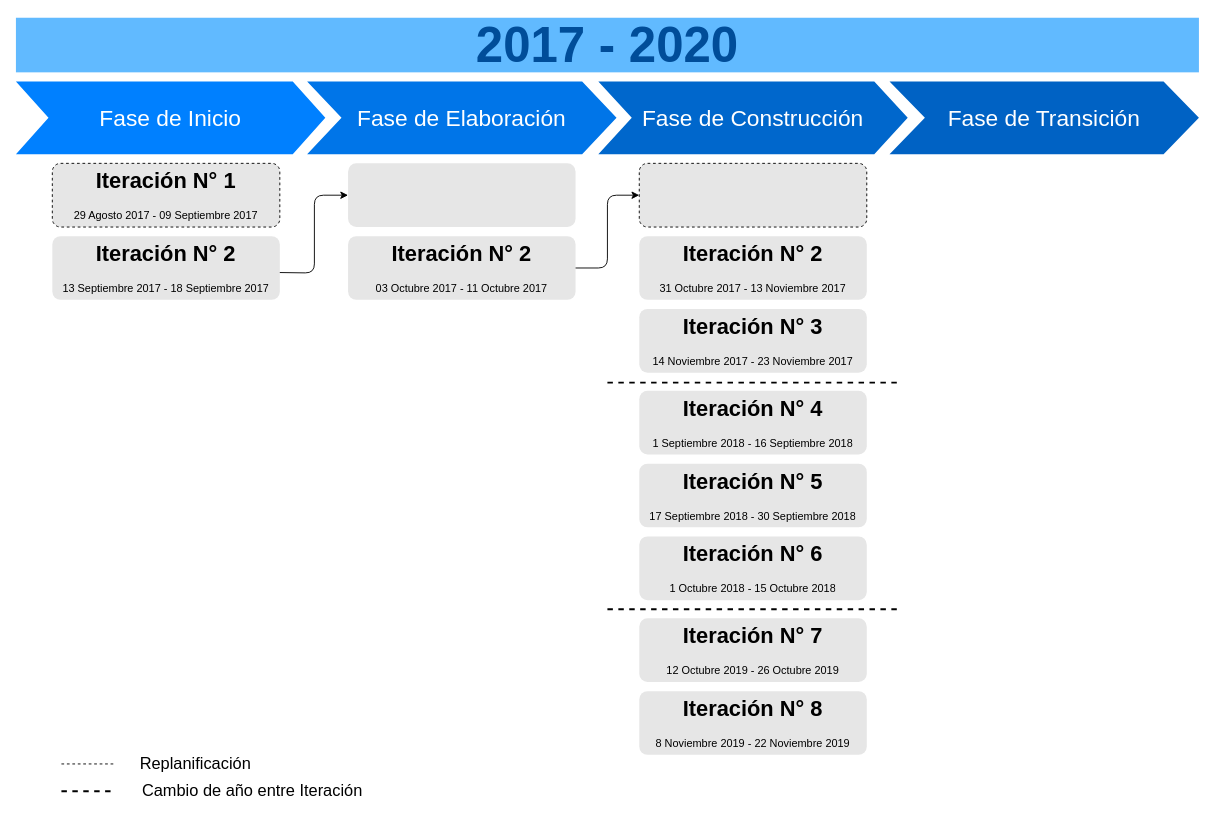
The diagram is 1214 pixels wide and 817 high, and some of its shapes have lost their labels. The centre of each missing label's shape, as x and y in pixels:
Iteración N° 1 13 Octubre 2017 - 26 Octubre 2017: pixel 752 194
Iteración N° 1 19 Septiembre 2017 - 2 Octubre 2017: pixel 461 195
